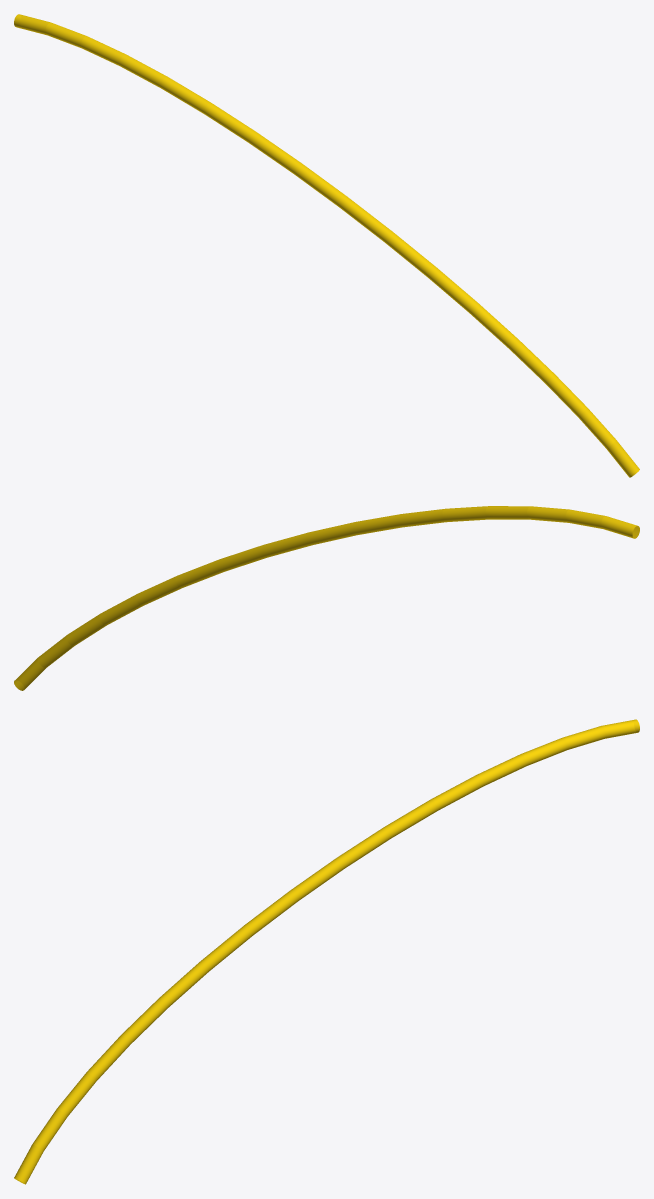
Rendered from Event_420094457_track_21.fbx.
The picture shows the model from 3 angles, top to bottom: view 1: azimuth 30°, elevation 25°; view 2: azimuth 210°, elevation 25°; view 3: azimuth 270°, elevation 25°; orthographic projection.
Visible parts, largest first — view 1: Model; view 2: Model; view 3: Model.
Boxes of the visible parts, <box> form: Model: <box>14,14,639,477</box>; Model: <box>14,506,639,690</box>; Model: <box>14,719,639,1184</box>.
Bounding box in the file's own units: 1.09 × 1.03 × 1.85.
